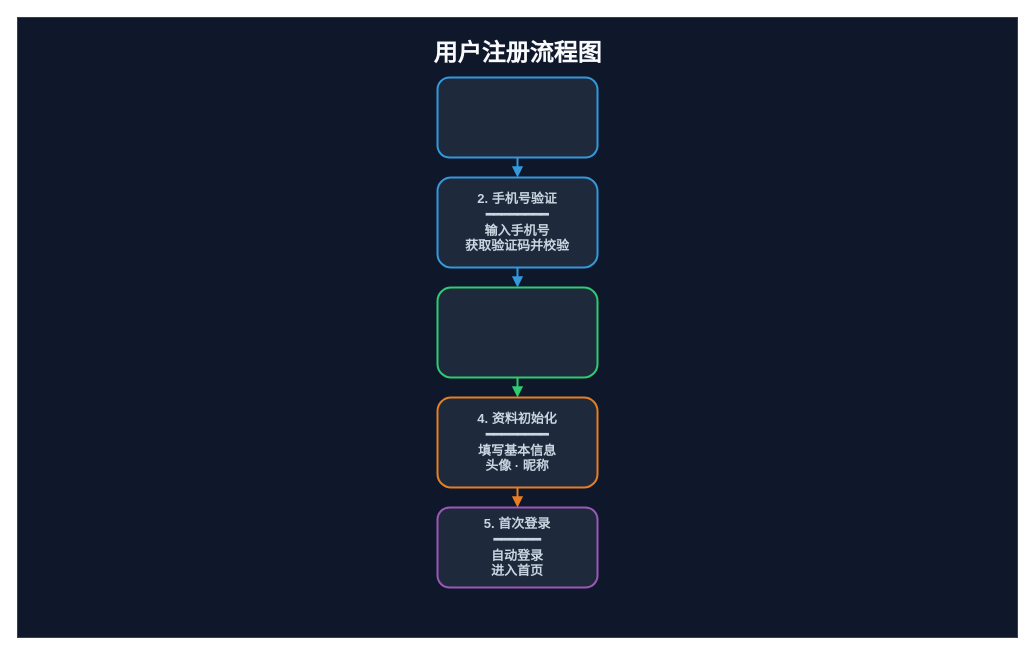
Some shapes in this 1035 by 655 pixel diagram are drawn without their labels. The centre of each missing label's shape, as x and y in pixels:
1. 开始 ━━━━ 用户发起注册请求: point 517,117
3. 账号创建 ━━━━━━ 设置密码 创建用户账号: point 517,332
